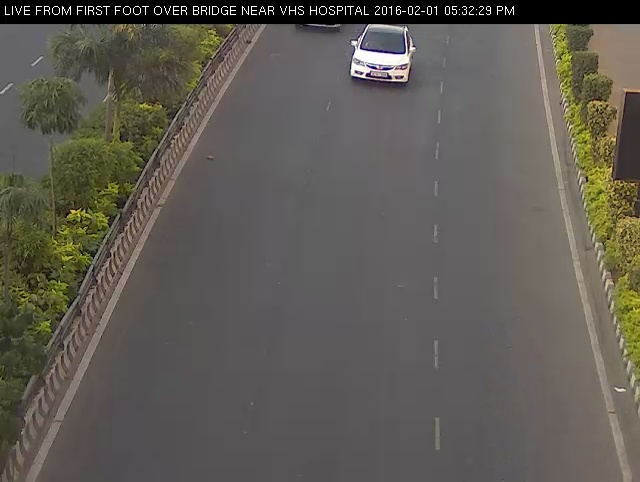Car: (340, 16, 428, 98), (289, 13, 349, 38)
